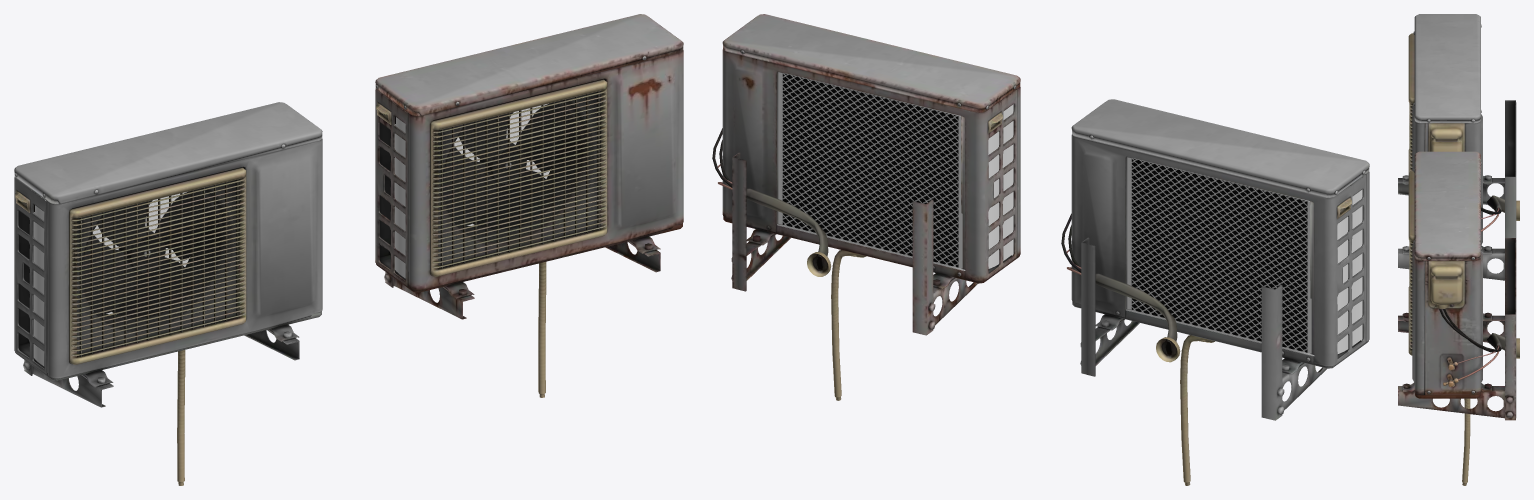
The model's file is exterior_aircon_unit.glb.
3 renders of one model, left to right at view 1: azimuth 30°, elevation 25°; view 2: azimuth 150°, elevation 25°; view 3: azimuth 270°, elevation 25°, orthographic. The views are drawn at different scales.
Parts seen in each view (by area): view 1: exterior_aircon_unit_rusted, exterior_aircon_unit; view 2: exterior_aircon_unit, exterior_aircon_unit_rusted; view 3: exterior_aircon_unit_rusted, exterior_aircon_unit.
Boxes of the visible parts, x1=… form: exterior_aircon_unit_rusted: x1=375, y1=14, x2=683, y2=397; exterior_aircon_unit: x1=14, y1=102, x2=322, y2=485; exterior_aircon_unit: x1=1061, y1=99, x2=1369, y2=485; exterior_aircon_unit_rusted: x1=712, y1=14, x2=1020, y2=400; exterior_aircon_unit_rusted: x1=1398, y1=151, x2=1519, y2=485; exterior_aircon_unit: x1=1398, y1=14, x2=1519, y2=280.
Bounding box in the file's own units: 1.8 × 0.9279 × 0.3742.
Materials: 4 (4 with a texture image).
